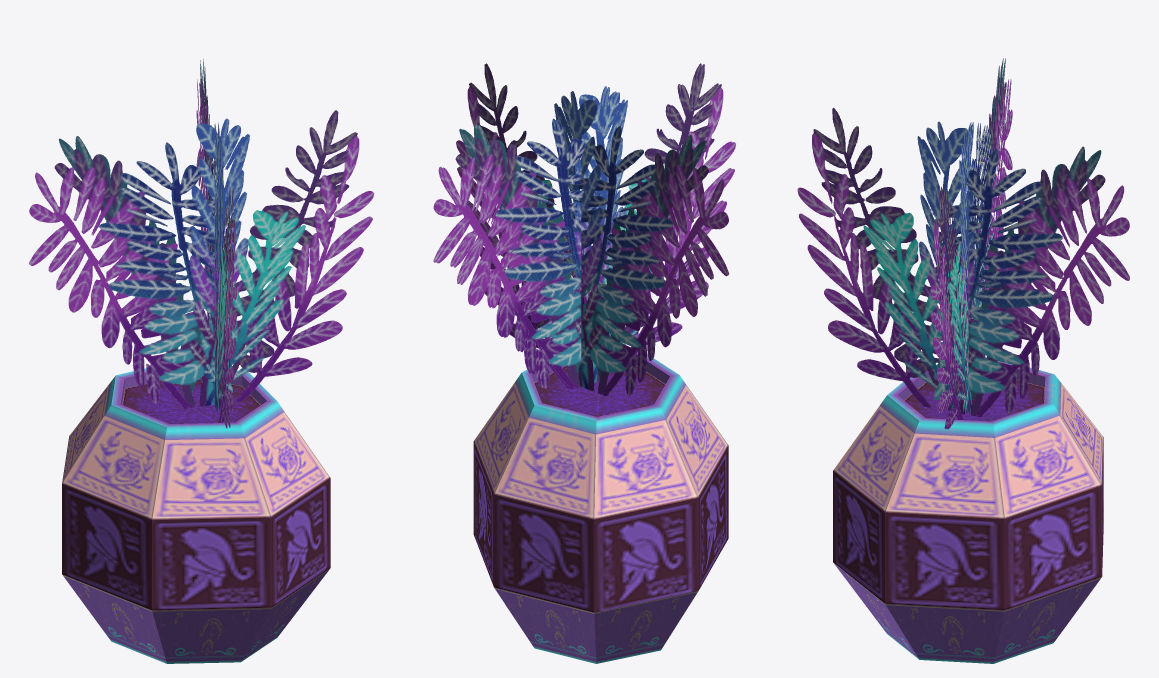
Rendered from Structure_Vapor_Pot_01_Art.fbx.
The picture shows the model from 3 angles, left to right: view 1: azimuth 30°, elevation 25°; view 2: azimuth 150°, elevation 25°; view 3: azimuth 270°, elevation 25°; orthographic projection. The views are drawn at different scales.
Parts seen in each view (by area): view 1: Structure_Vapor_Pot_01_Art, Structure_Vapor_Pot_01_Art1; view 2: Structure_Vapor_Pot_01_Art, Structure_Vapor_Pot_01_Art1; view 3: Structure_Vapor_Pot_01_Art, Structure_Vapor_Pot_01_Art1.
Part boxes in pixels (x1,y1,x2,y2): Structure_Vapor_Pot_01_Art: [29, 59, 371, 663]; Structure_Vapor_Pot_01_Art1: [30, 60, 374, 428]; Structure_Vapor_Pot_01_Art: [433, 63, 732, 663]; Structure_Vapor_Pot_01_Art1: [436, 63, 735, 395]; Structure_Vapor_Pot_01_Art: [797, 58, 1129, 663]; Structure_Vapor_Pot_01_Art1: [797, 58, 1129, 429].
Size of the model in its own units: 159 by 243 by 148.
